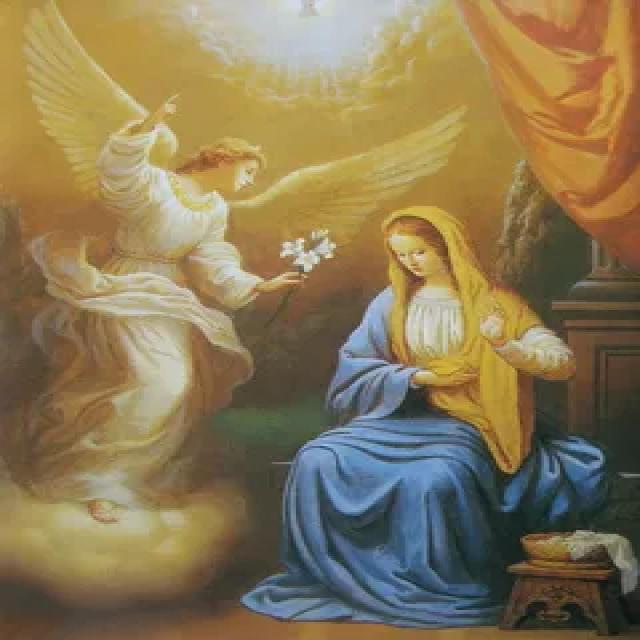mother of god: (289, 200, 597, 627)
